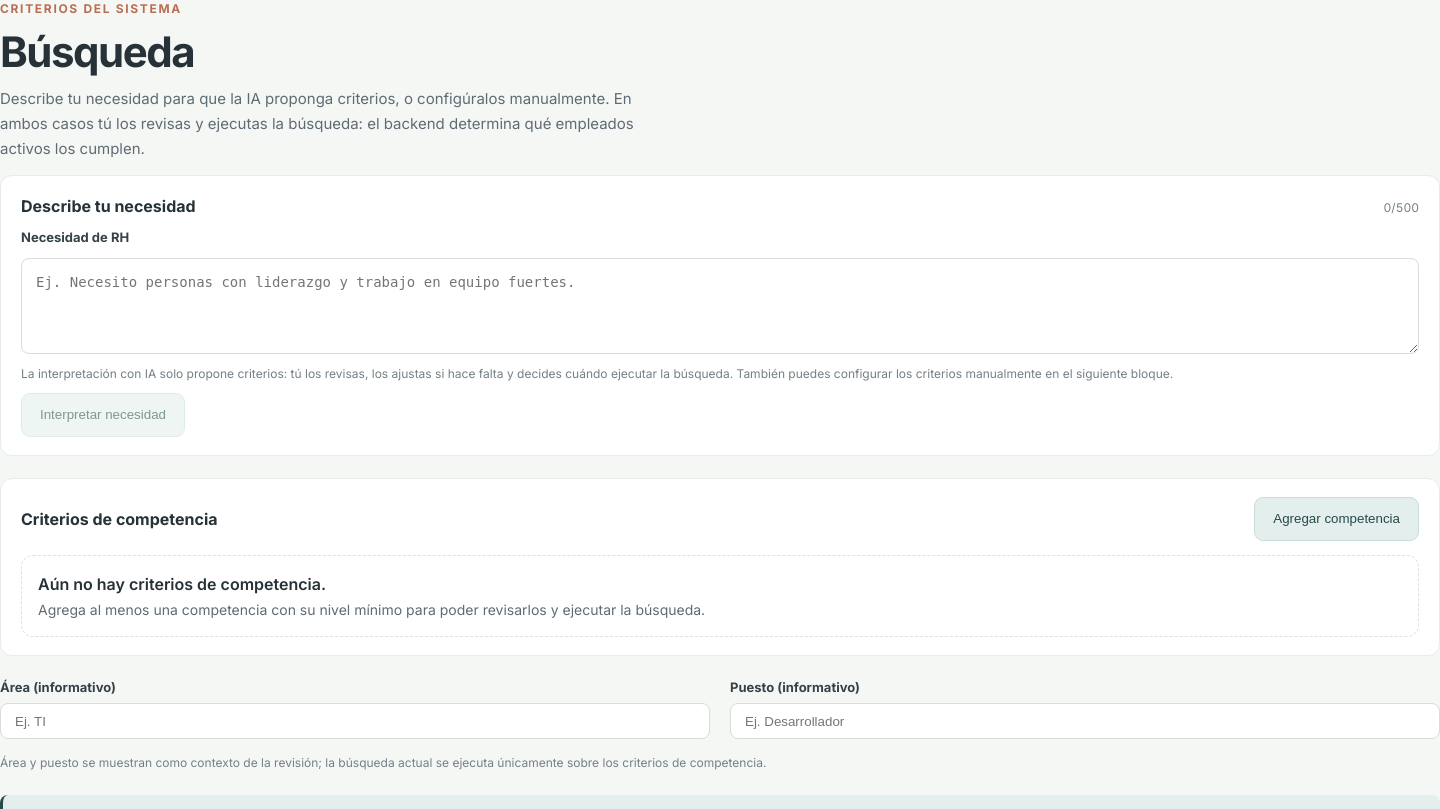
Scenario: Búsqueda — criterios de competencia › quitar un criterio lo elimina de la revisión
What coordinates should you click on to do the following:
click the button "Agregar competencia"
I would click on:
 (1337, 519)
Its box is [1254, 497, 1419, 541].
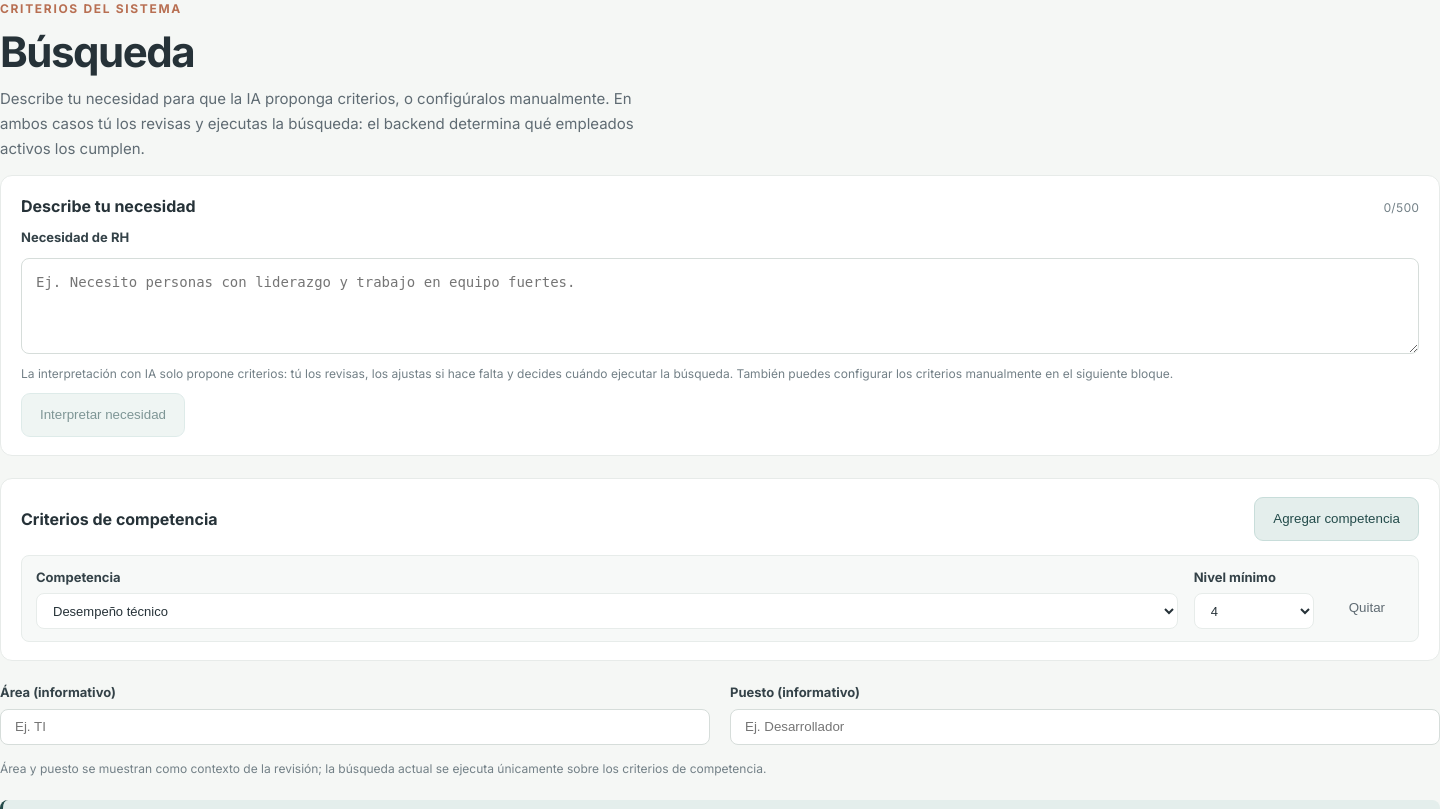
What coordinates should you click on to do the following:
click the button "Agregar competencia"
I would click on:
 (1337, 519)
Its box is [1254, 497, 1419, 541].
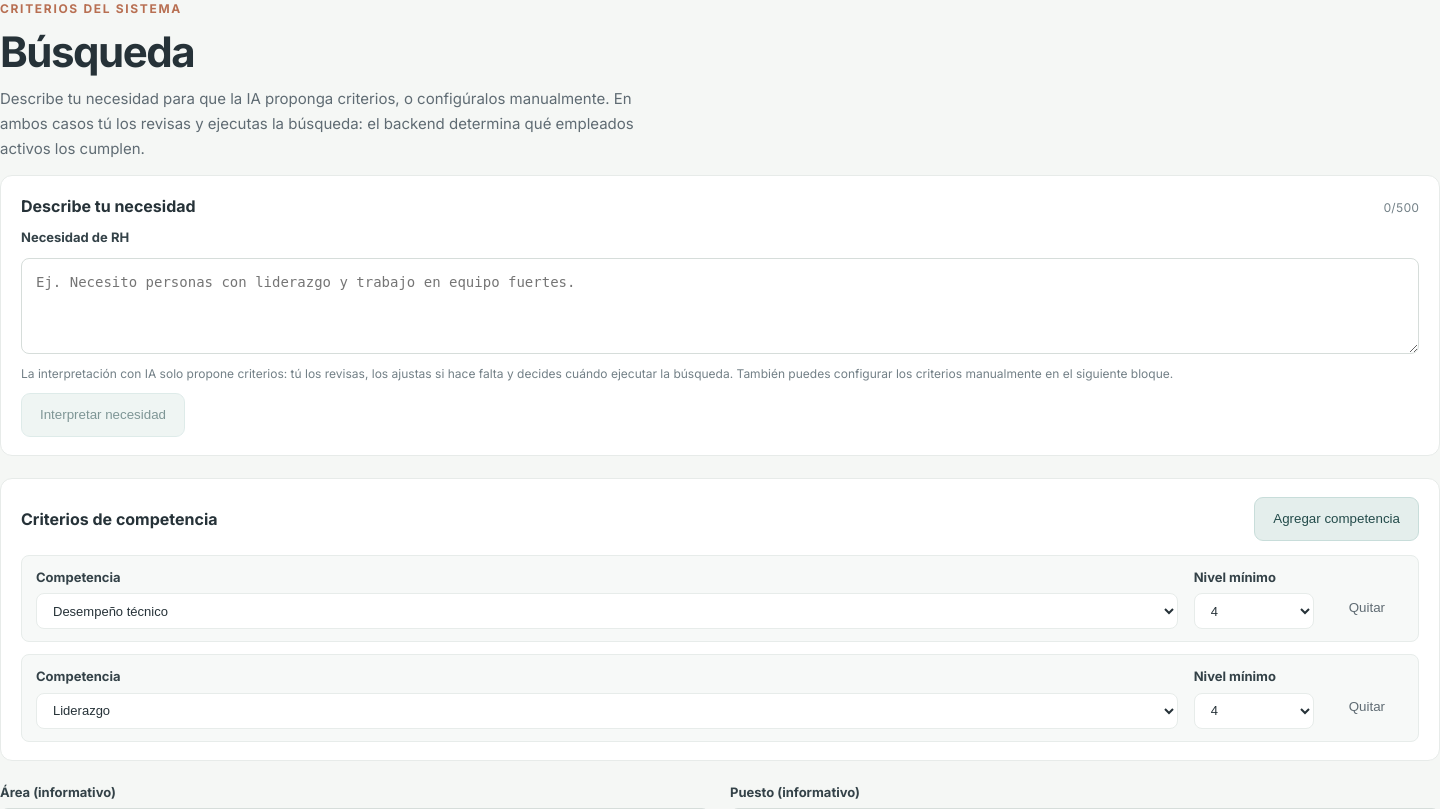
What coordinates should you click on to do the following:
click the button with aria-label "Quitar criterio 1"
I would click on:
 (1367, 608)
Its box is [1330, 586, 1404, 630].
(page scrolled)
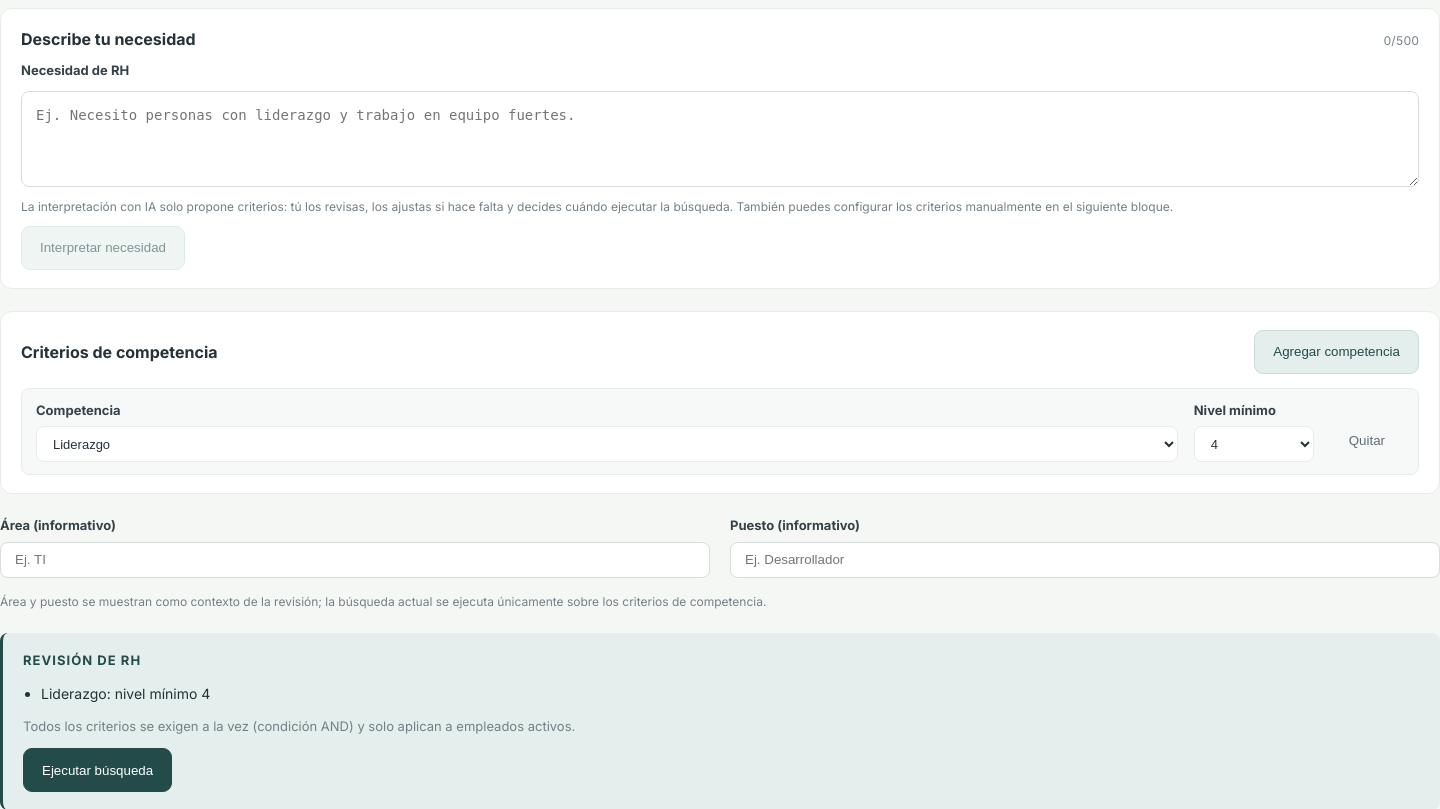
expect the dropdown named "Competencia del criterio 1" shows "Liderazgo": met, box [36, 426, 1178, 462]
expect the list item "Liderazgo: nivel mínimo 4" is shown: met, box [41, 685, 210, 702]
